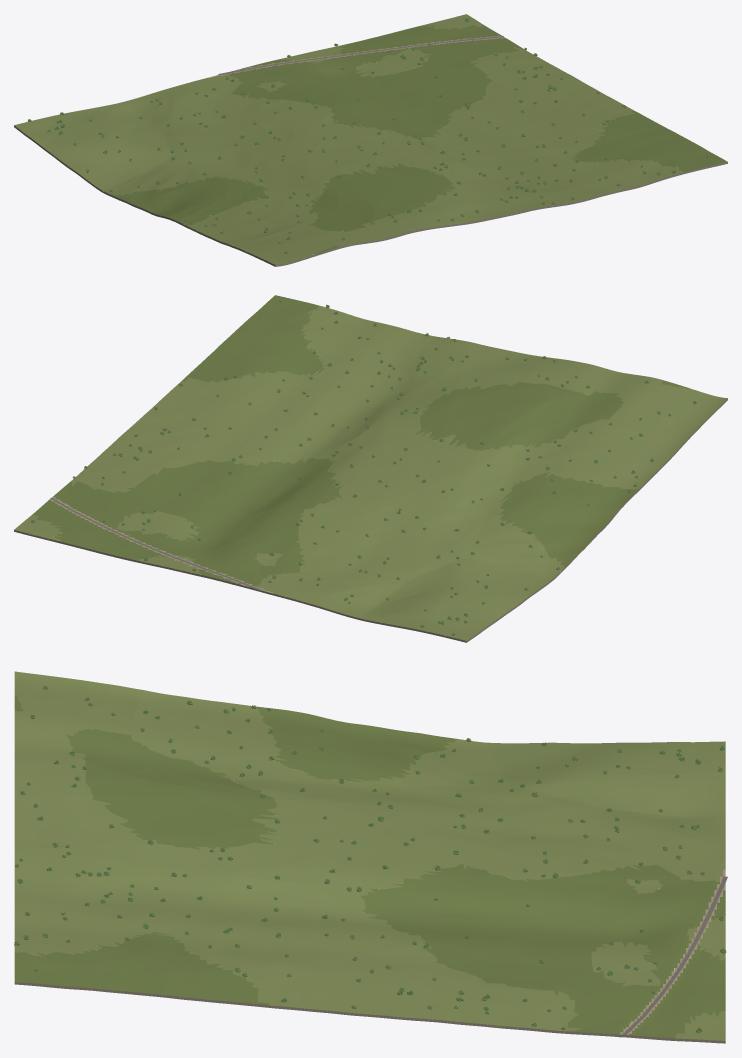
File: parca_+9_-3-yakin.glb
3 views of the same model, one above another, from view 1: azimuth 30°, elevation 25°; view 2: azimuth 150°, elevation 25°; view 3: azimuth 270°, elevation 25° (orthographic). The views are drawn at different scales.
Parts seen in each view (by area): view 1: parca_+9_-3_arazi, parca_+9_-3_bitkiler, parca_+9_-3_yollar; view 2: parca_+9_-3_arazi, parca_+9_-3_bitkiler, parca_+9_-3_yollar; view 3: parca_+9_-3_arazi, parca_+9_-3_bitkiler, parca_+9_-3_yollar.
Boxes of the visible parts, x1,y1,x2,y2 form: parca_+9_-3_arazi: (14,14,727,266); parca_+9_-3_bitkiler: (28,18,708,254); parca_+9_-3_yollar: (218,36,503,75); parca_+9_-3_arazi: (14,295,727,642); parca_+9_-3_bitkiler: (31,301,696,635); parca_+9_-3_yollar: (50,497,262,590); parca_+9_-3_arazi: (14,671,725,1043); parca_+9_-3_bitkiler: (14,686,726,1032); parca_+9_-3_yollar: (622,876,727,1035).
Bounding box in the file's own units: 1002 × 129 × 1004.
